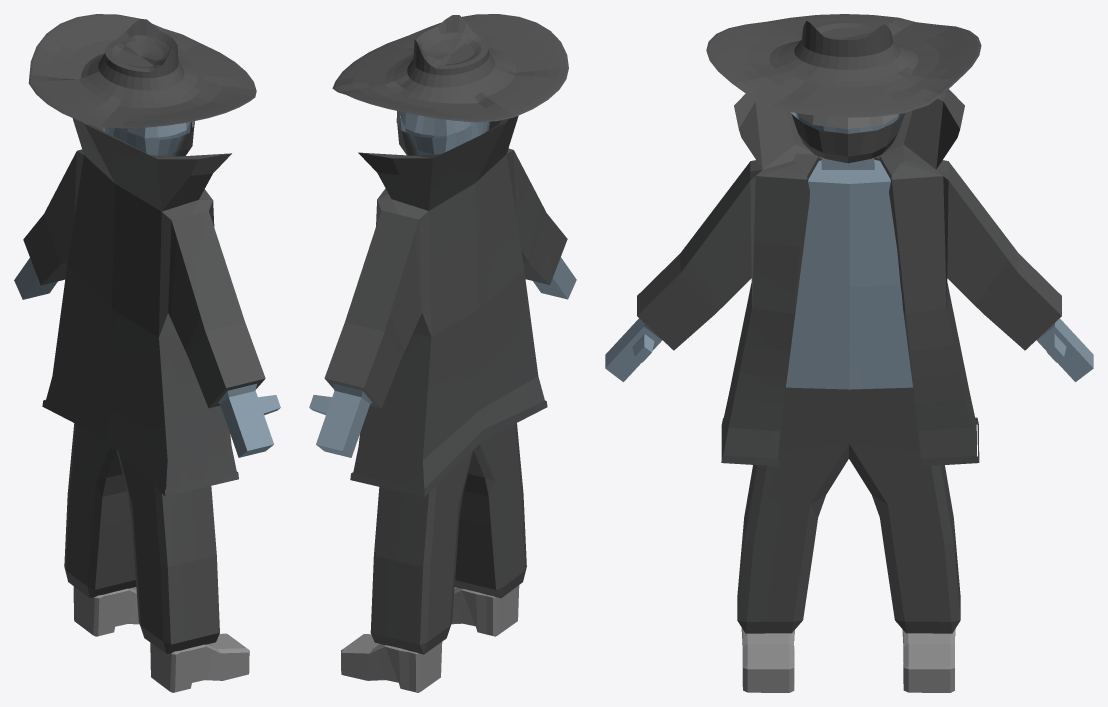
File: homer_simpsons_1_1.fbx
The picture shows the model from 3 angles, left to right: view 1: azimuth 30°, elevation 25°; view 2: azimuth 150°, elevation 25°; view 3: azimuth 270°, elevation 25°; orthographic projection. The views are drawn at different scales.
Visible parts, largest first — view 1: casaco, Pernas, Sphere, Pe direito, Torso, Pé esquerdo, Mascara, Cara; view 2: casaco, Pernas, Sphere, Pé esquerdo, Torso, Pe direito, Mascara, Cara; view 3: casaco, Pernas, Torso, Sphere, Pe direito, Pé esquerdo, Mascara, Cara, Cara.001.
Part boxes in pixels (bbox=[...]): casaco: bbox=[23, 118, 265, 496]; Pernas: bbox=[64, 423, 219, 653]; Sphere: bbox=[28, 14, 256, 128]; Pe direito: bbox=[150, 633, 249, 692]; Torso: bbox=[14, 258, 280, 457]; Pé esquerdo: bbox=[73, 586, 139, 636]; Mascara: bbox=[102, 122, 194, 156]; Cara: bbox=[112, 122, 190, 139]; casaco: bbox=[324, 115, 567, 497]; Pernas: bbox=[370, 423, 526, 654]; Sphere: bbox=[332, 14, 568, 122]; Pé esquerdo: bbox=[341, 634, 442, 692]; Torso: bbox=[309, 257, 576, 457]; Pe direito: bbox=[451, 585, 519, 636]; Mascara: bbox=[397, 117, 489, 155]; Cara: bbox=[400, 111, 481, 137]; casaco: bbox=[637, 89, 1061, 466]; Pernas: bbox=[737, 387, 960, 633]; Torso: bbox=[605, 159, 1093, 389]; Sphere: bbox=[706, 14, 981, 117]; Pe direito: bbox=[741, 628, 794, 692]; Pé esquerdo: bbox=[902, 629, 955, 692]; Mascara: bbox=[790, 112, 904, 163]; Cara: bbox=[796, 113, 899, 169]; Cara.001: bbox=[798, 113, 897, 129].
Bounding box in the file's own units: 55.25 × 172 × 117.
Materials: 7 (7 with a texture image).
